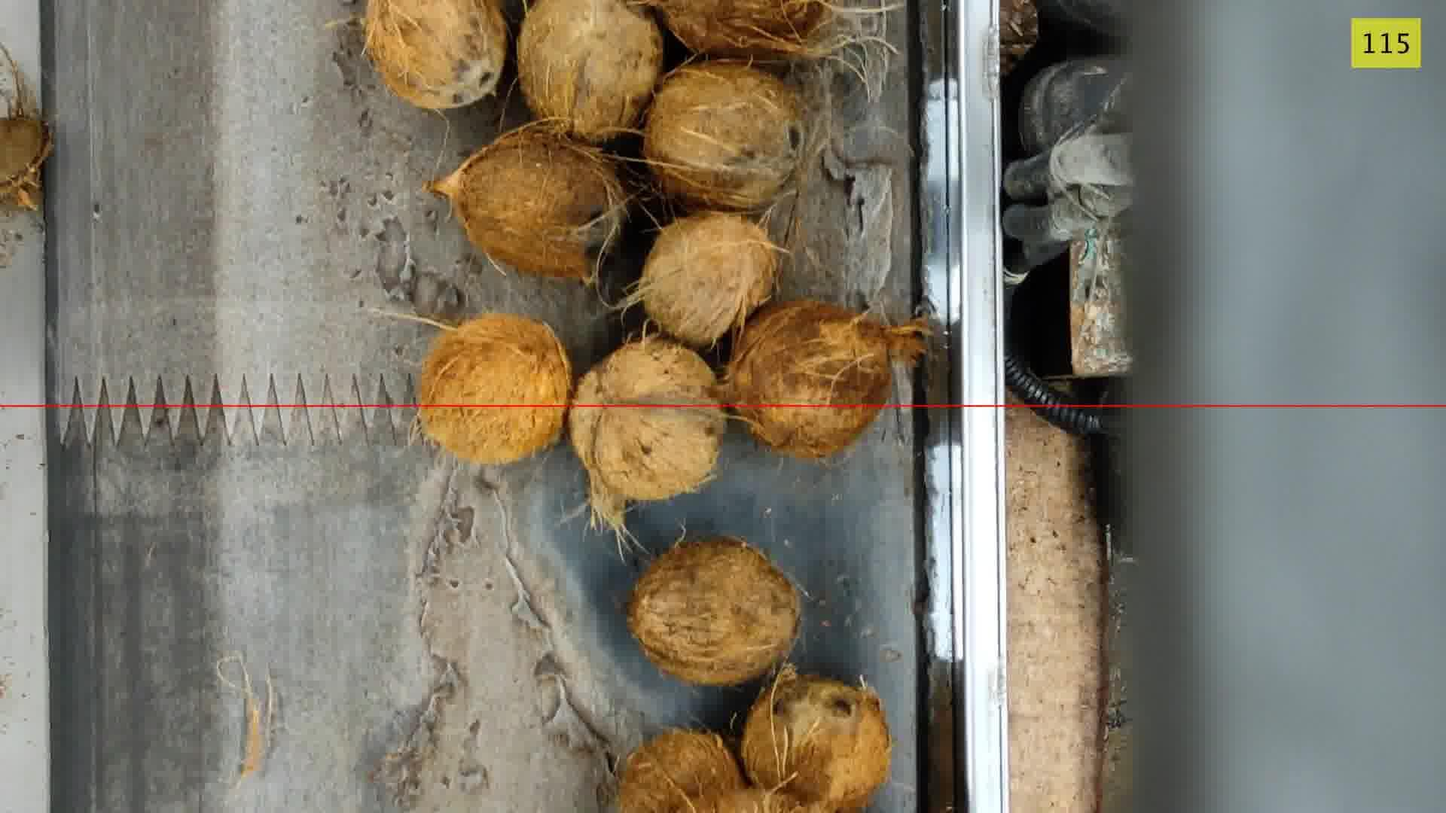Coconut: (728, 300, 925, 458), (569, 338, 725, 534), (429, 126, 625, 281), (627, 537, 801, 686), (642, 61, 804, 211), (419, 313, 571, 464), (740, 667, 891, 808), (517, 0, 662, 142), (629, 212, 778, 348), (365, 0, 508, 109), (644, 0, 832, 58), (618, 729, 746, 812), (0, 46, 53, 209), (684, 788, 834, 812)
